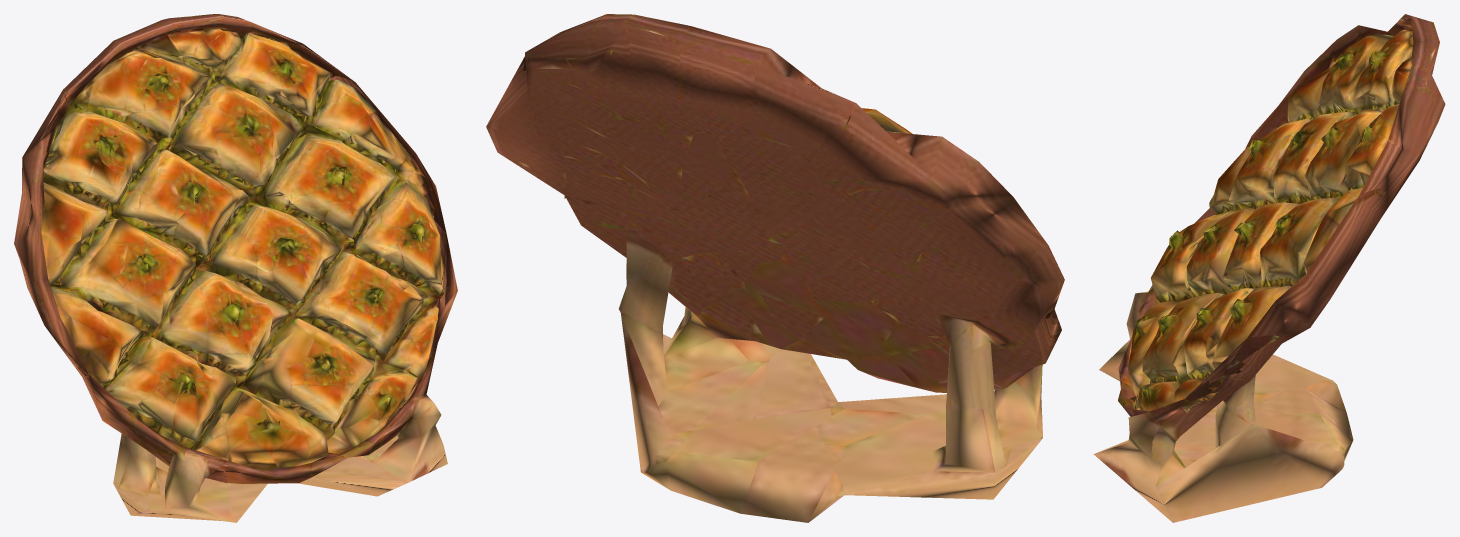
The model's file is baklava.glb.
3 renders of one model, left to right at view 1: azimuth 30°, elevation 25°; view 2: azimuth 150°, elevation 25°; view 3: azimuth 270°, elevation 25°, orthographic. The views are drawn at different scales.
Bounding box in the file's own units: 1.87 × 1.72 × 1.36.
1 material, 1 textured.
